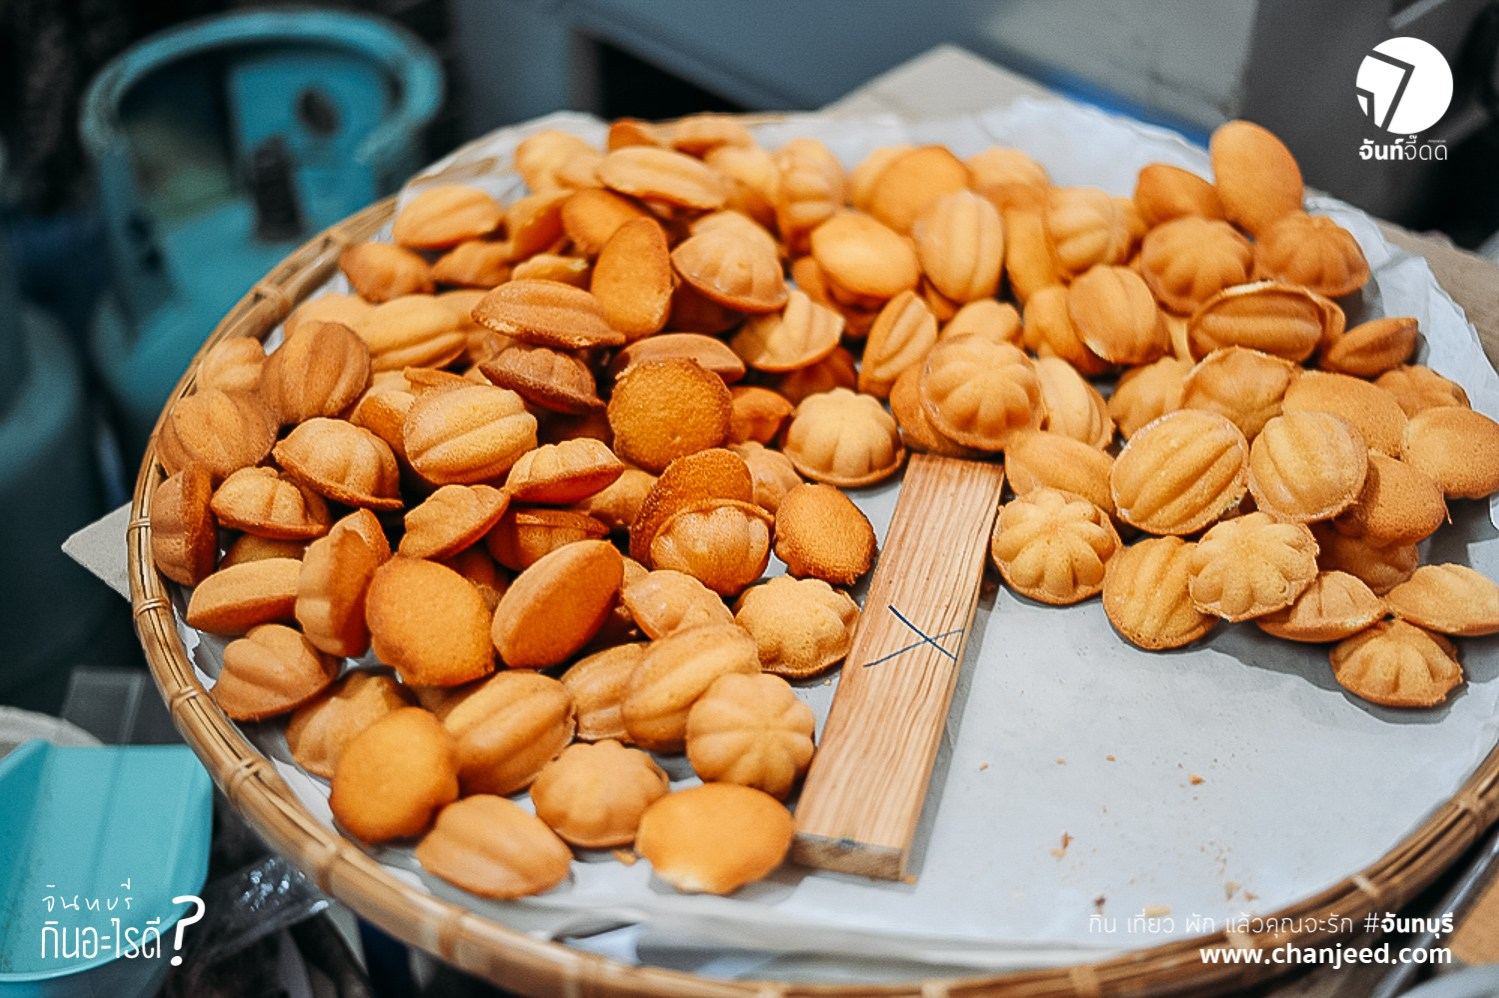kanomkai: (1097, 385, 1258, 547), (356, 545, 520, 699), (526, 724, 693, 853), (979, 479, 1131, 617), (676, 665, 822, 799), (394, 362, 545, 491), (1183, 499, 1326, 634), (263, 399, 419, 522), (723, 564, 871, 689), (917, 324, 1054, 460), (778, 376, 920, 508), (673, 213, 811, 336)
